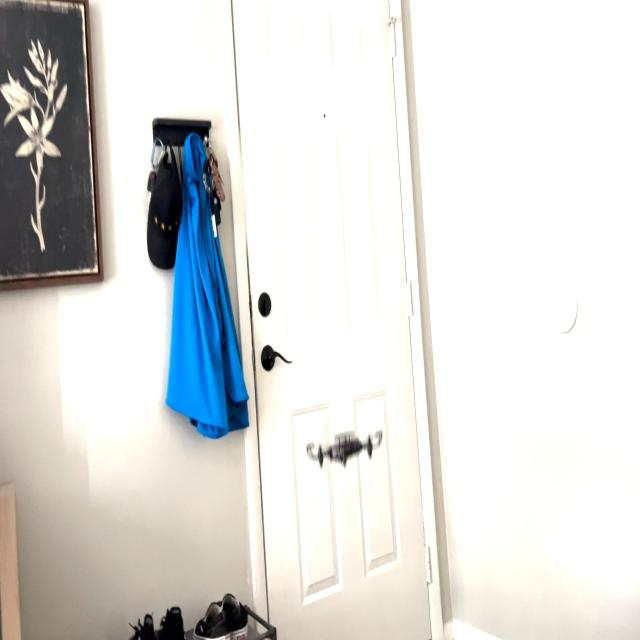drone: (295, 422, 394, 478)
